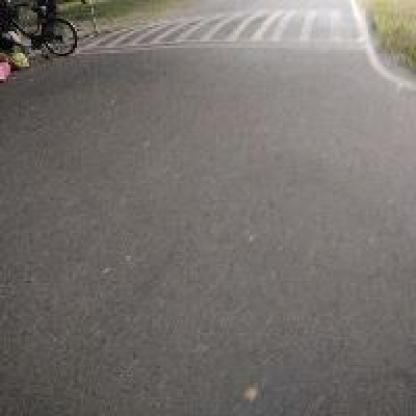Speed Bump: (89, 5, 367, 53)
